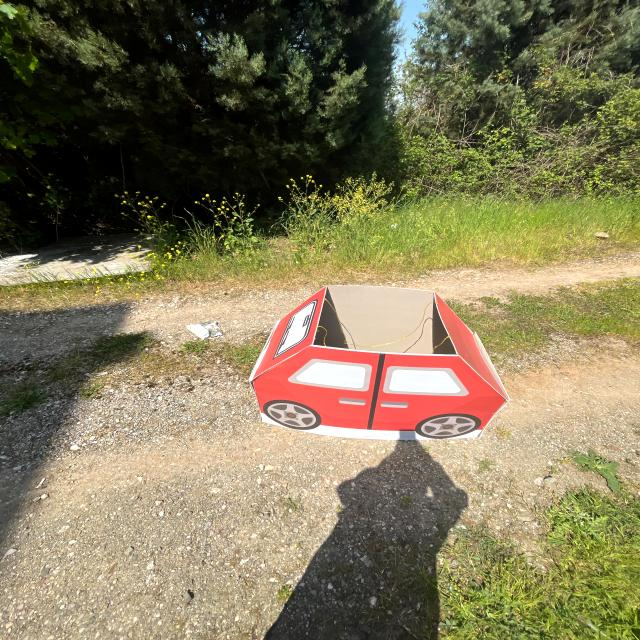red_car: (231, 275, 540, 462)
